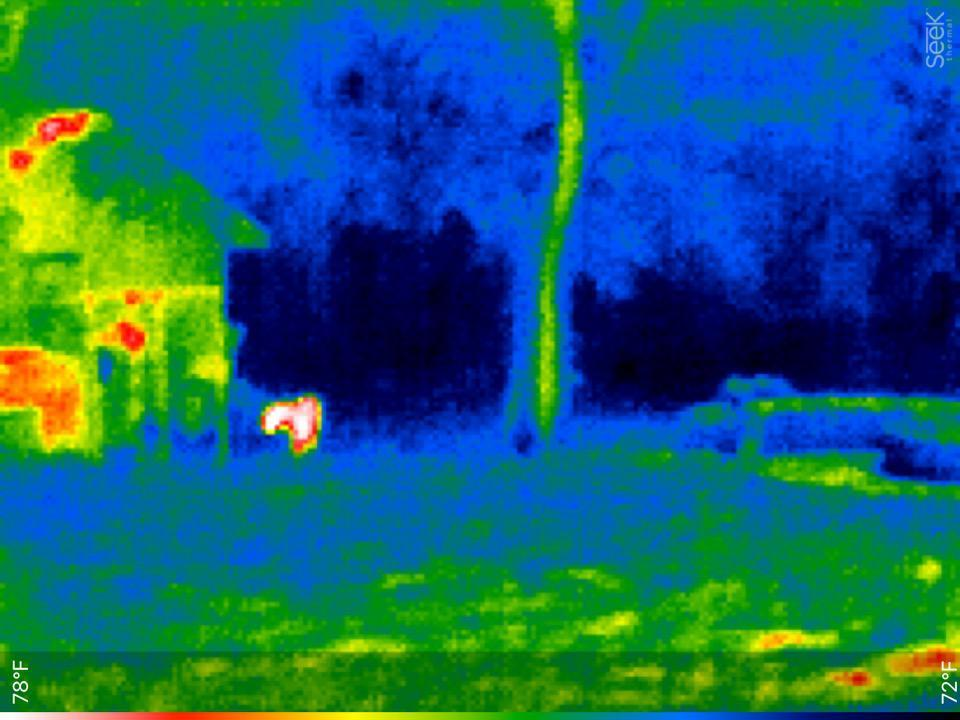dog: (253, 388, 329, 464)
